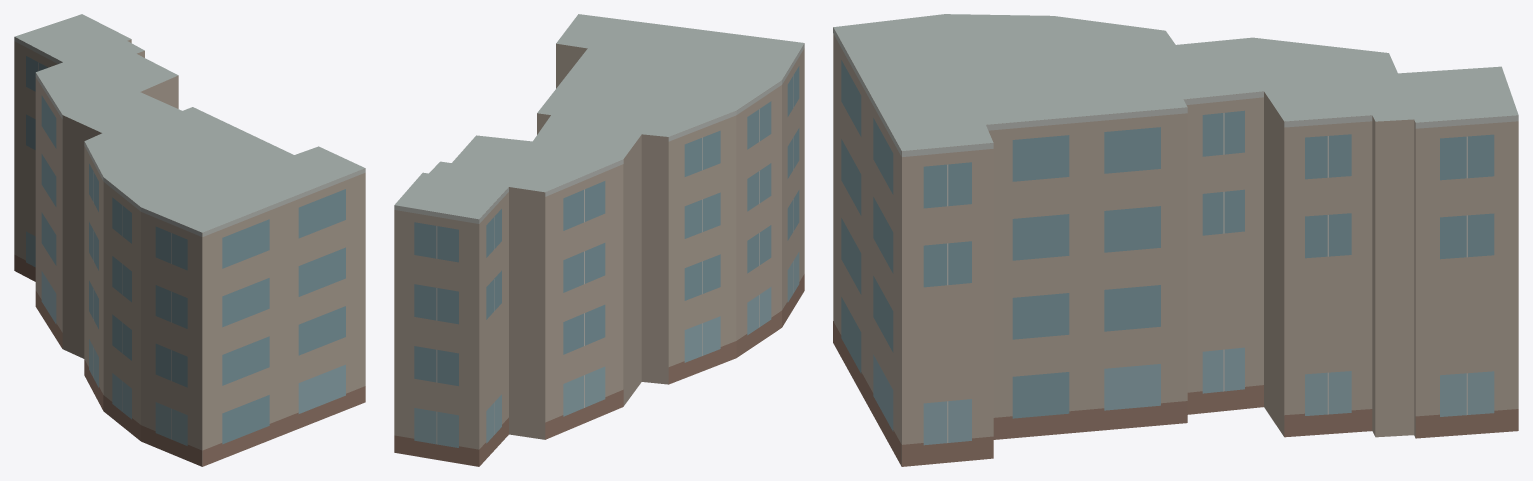
File: survey-upis-32968535.glb
3 views of the same model, side by side, from view 1: azimuth 30°, elevation 25°; view 2: azimuth 150°, elevation 25°; view 3: azimuth 270°, elevation 25° (orthographic). The views are drawn at different scales.
Visible parts, largest first — view 1: survey-upis-32968535.tmp; view 2: survey-upis-32968535.tmp; view 3: survey-upis-32968535.tmp.
Boxes of the visible parts, x1,y1,x2,y2 form: survey-upis-32968535.tmp: [14, 14, 365, 466]; survey-upis-32968535.tmp: [394, 14, 804, 466]; survey-upis-32968535.tmp: [833, 14, 1518, 466].
Bounding box in the file's own units: 11.94 × 12.8 × 25.2.
